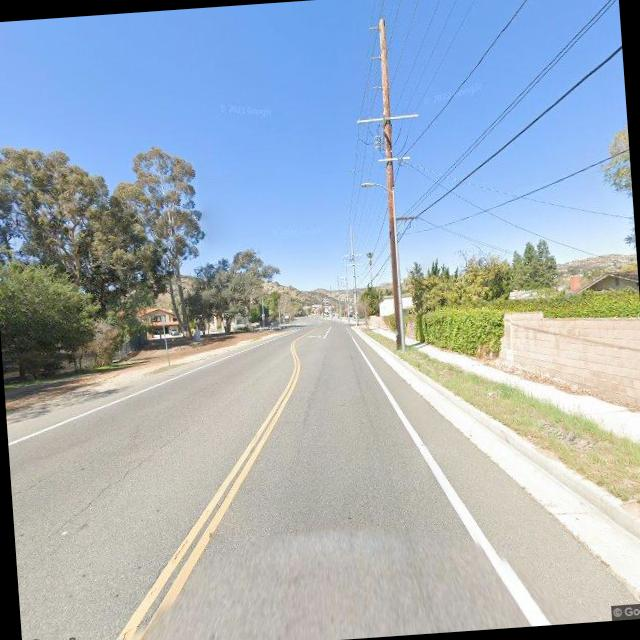crack: (35, 422, 190, 537)
